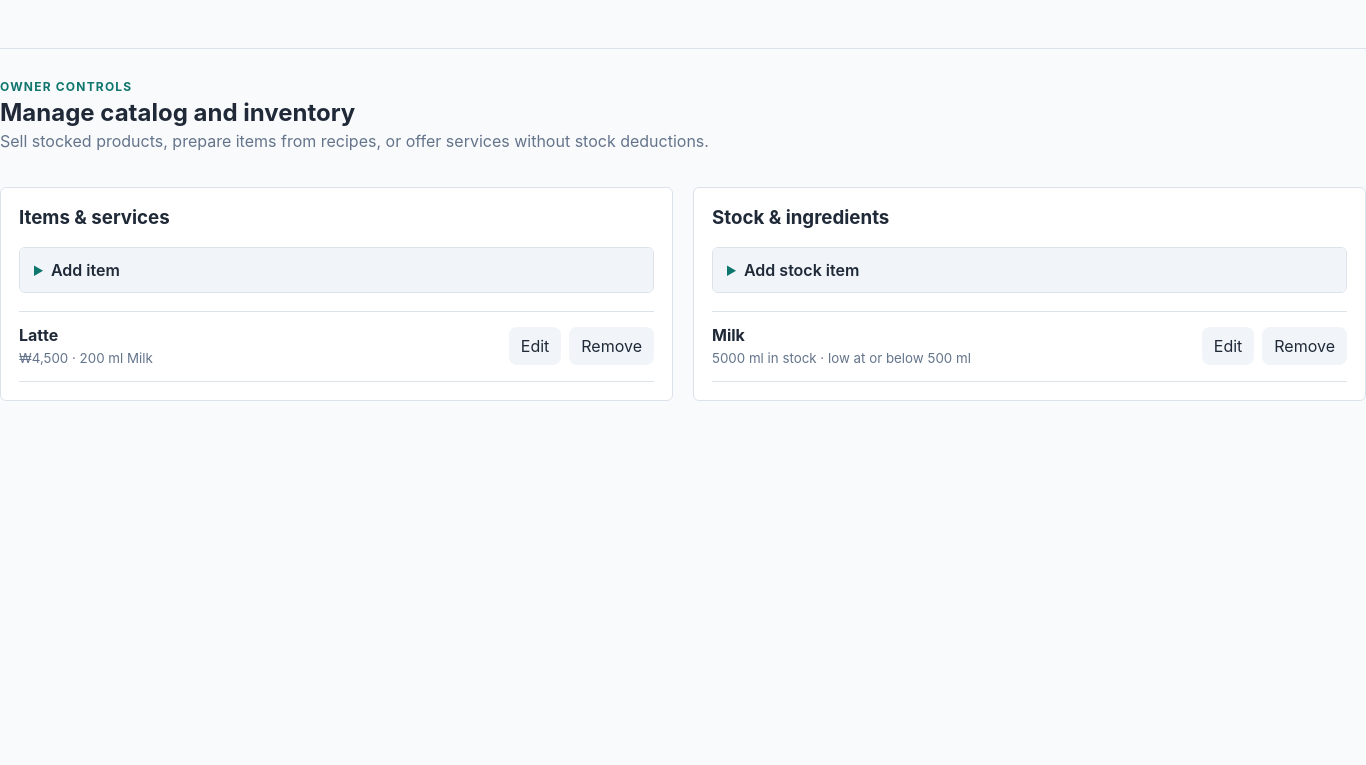
OwnerManagement › adds a menu item with its recipe
expect the text "Latte" is shown: met, box [19,325,58,345]
Click the heading "Add item" at [85, 270], box [20,248,653,292]
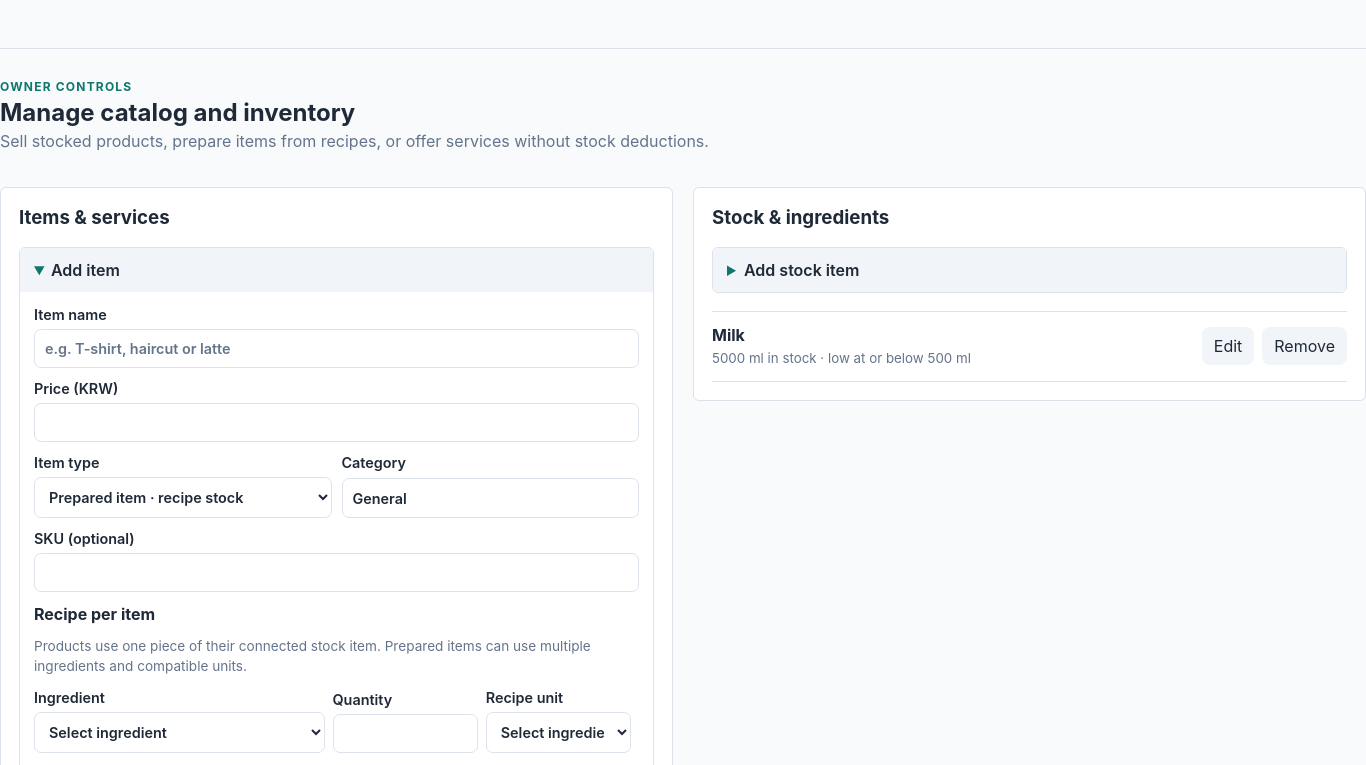
Type "Matcha Latte" into the field labelled "Item name" at [336, 348], box [34,329,639,368]
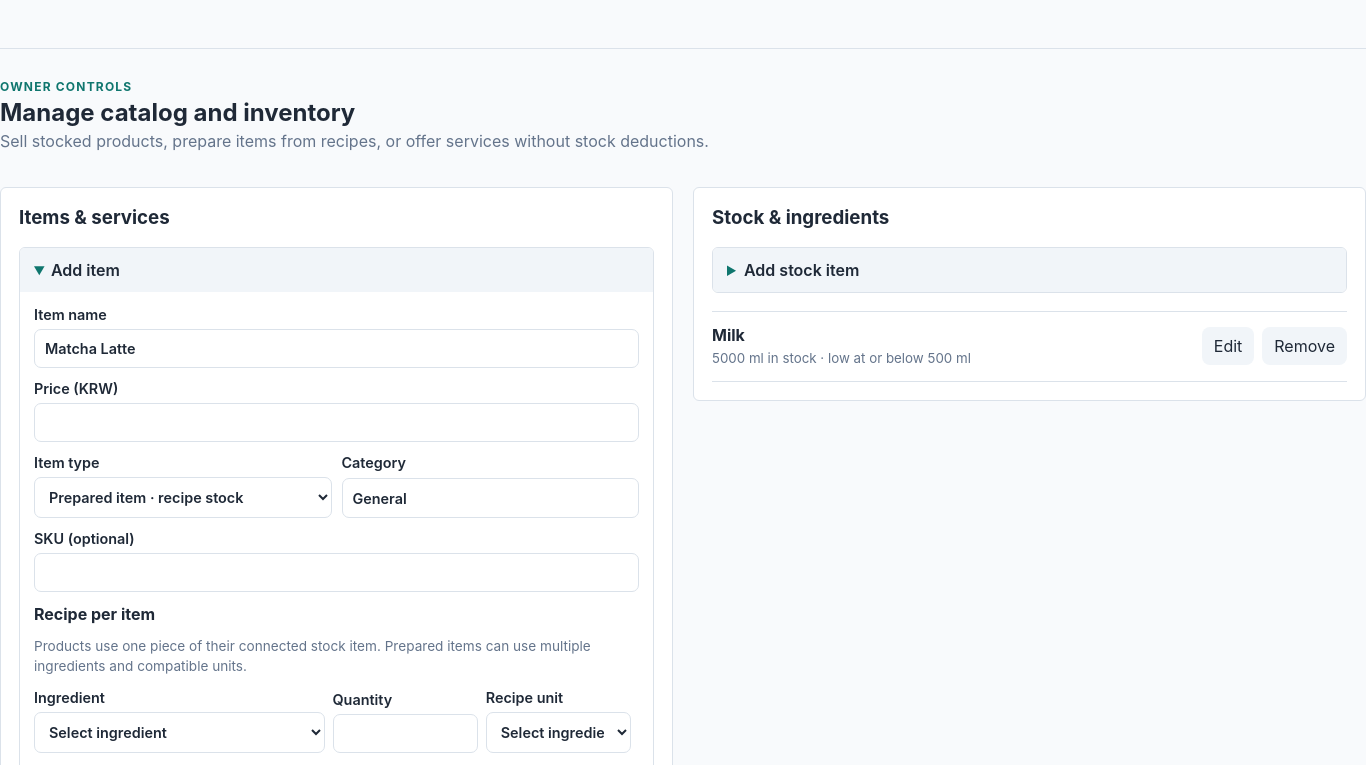
Type "5500" into the number field labelled "Price (KRW)" at [336, 422], box [34,403,639,442]
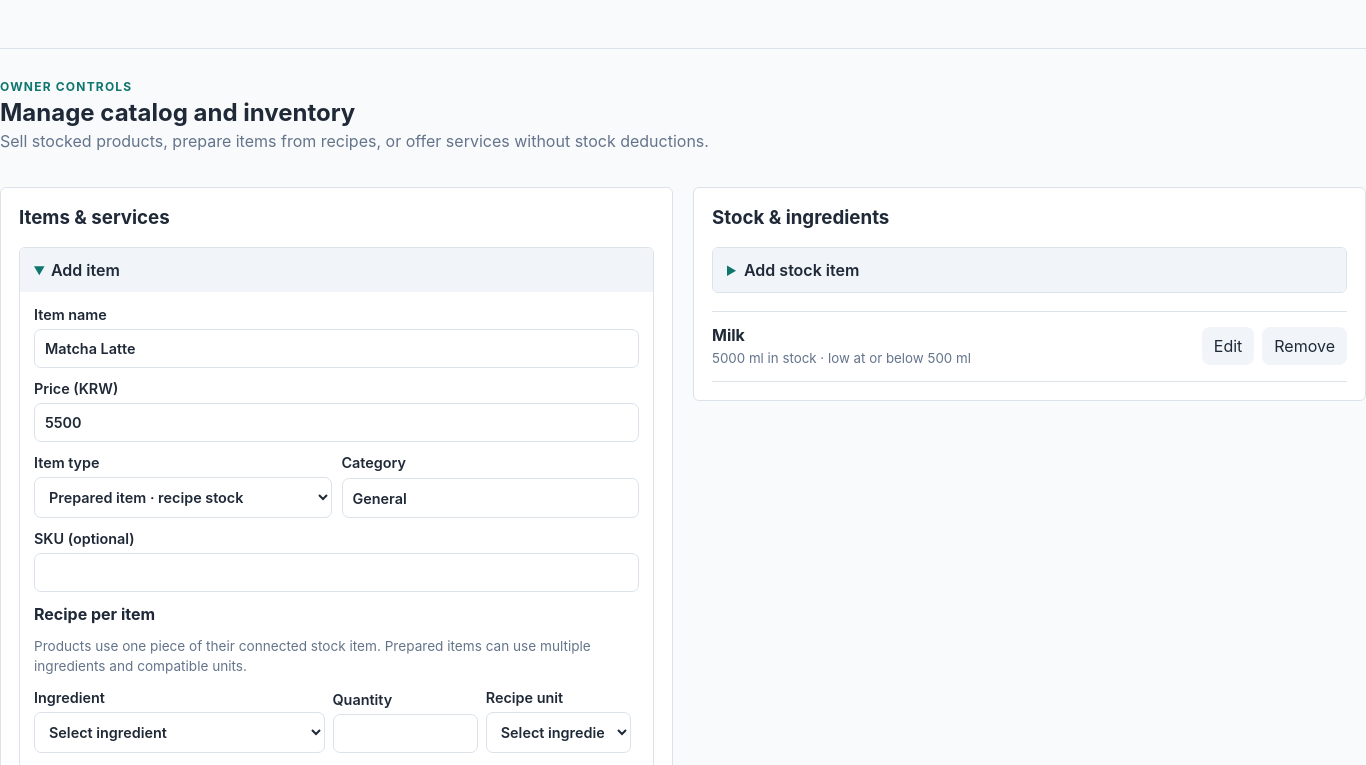
Select "Milk (ml)" in the dropdown labelled "Ingredient" at [179, 732], box [34,712,324,753]
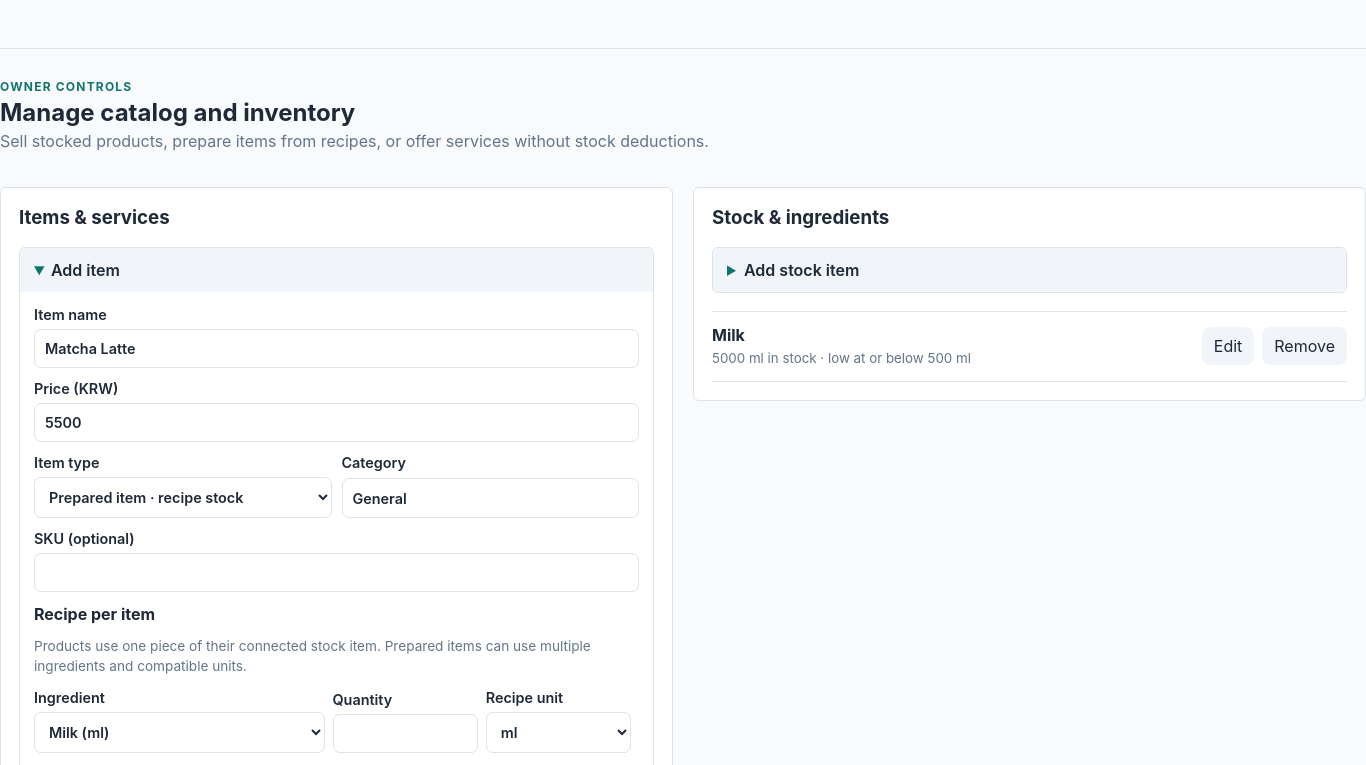
Type "200" into the number field labelled "Quantity" at [405, 733], box [332,714,478,753]
(page scrolled)
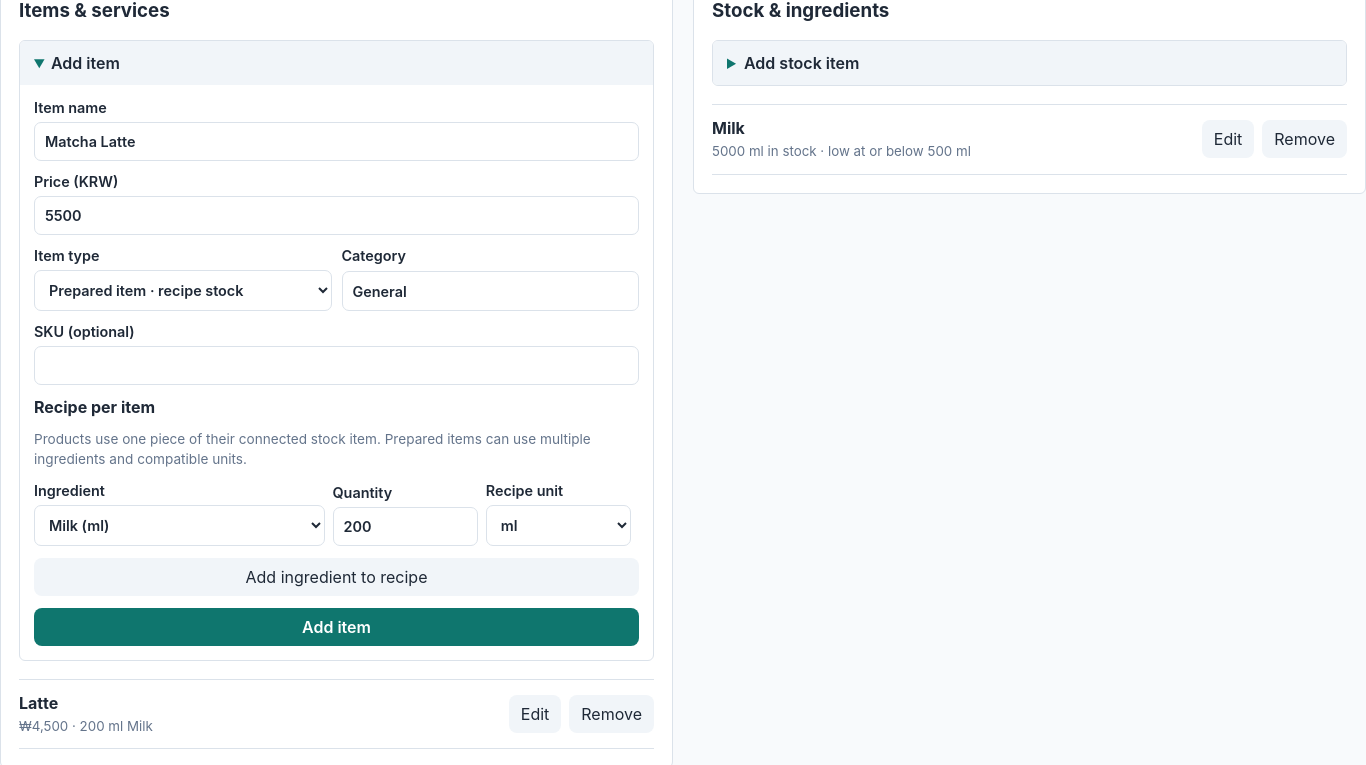
Click the button "Add item" at [336, 627], box [34,608,639,646]
(page scrolled)
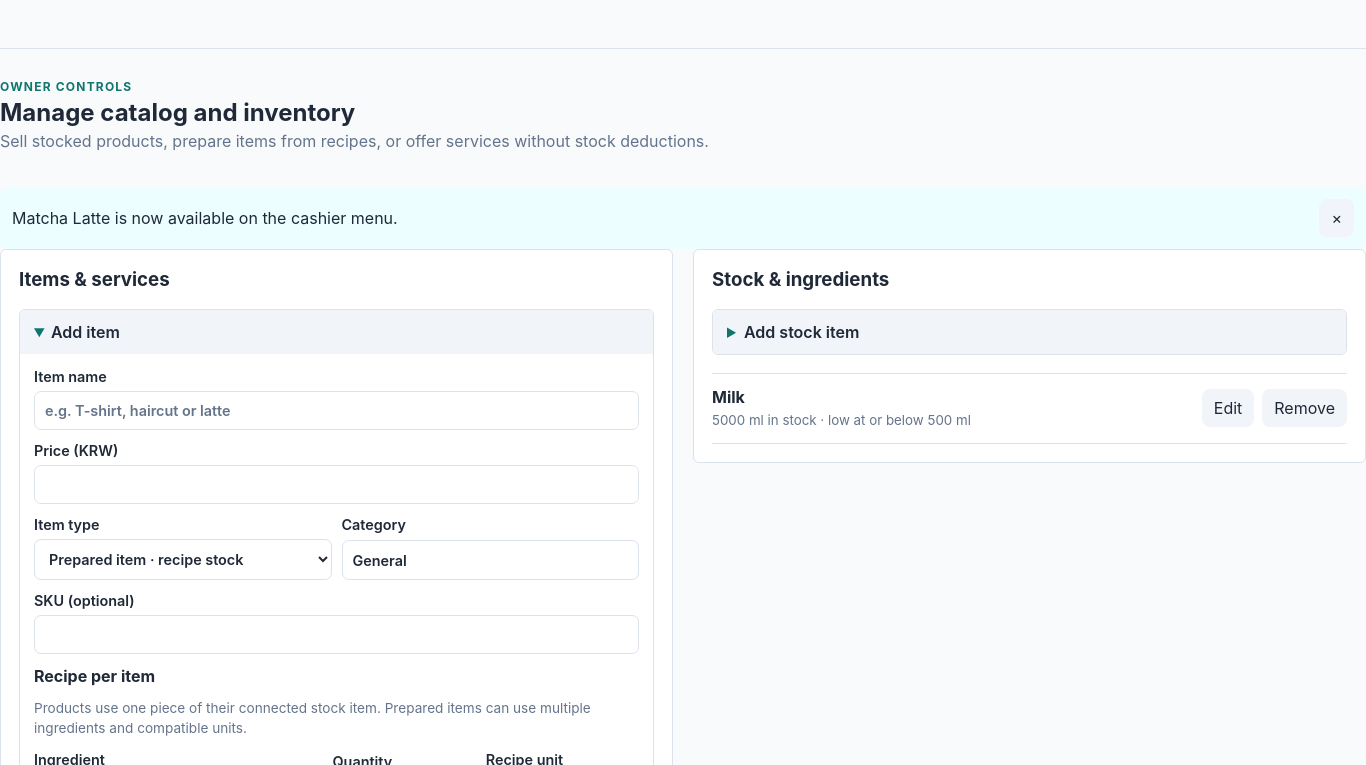
expect the text "Matcha Latte is now available on the cashier menu." is shown: met, box [12,208,398,228]
